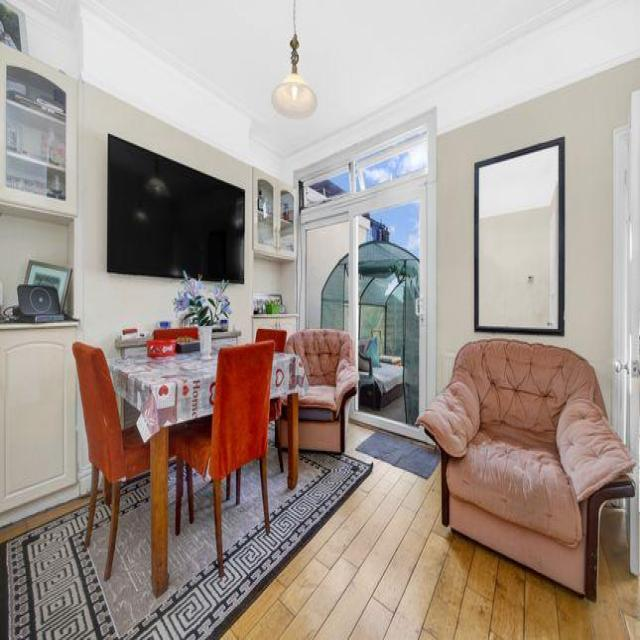Wall: (291, 0, 640, 410), (0, 426, 640, 639), (0, 83, 294, 356), (95, 0, 589, 157), (436, 59, 640, 412), (14, 0, 294, 183), (0, 403, 90, 523)
